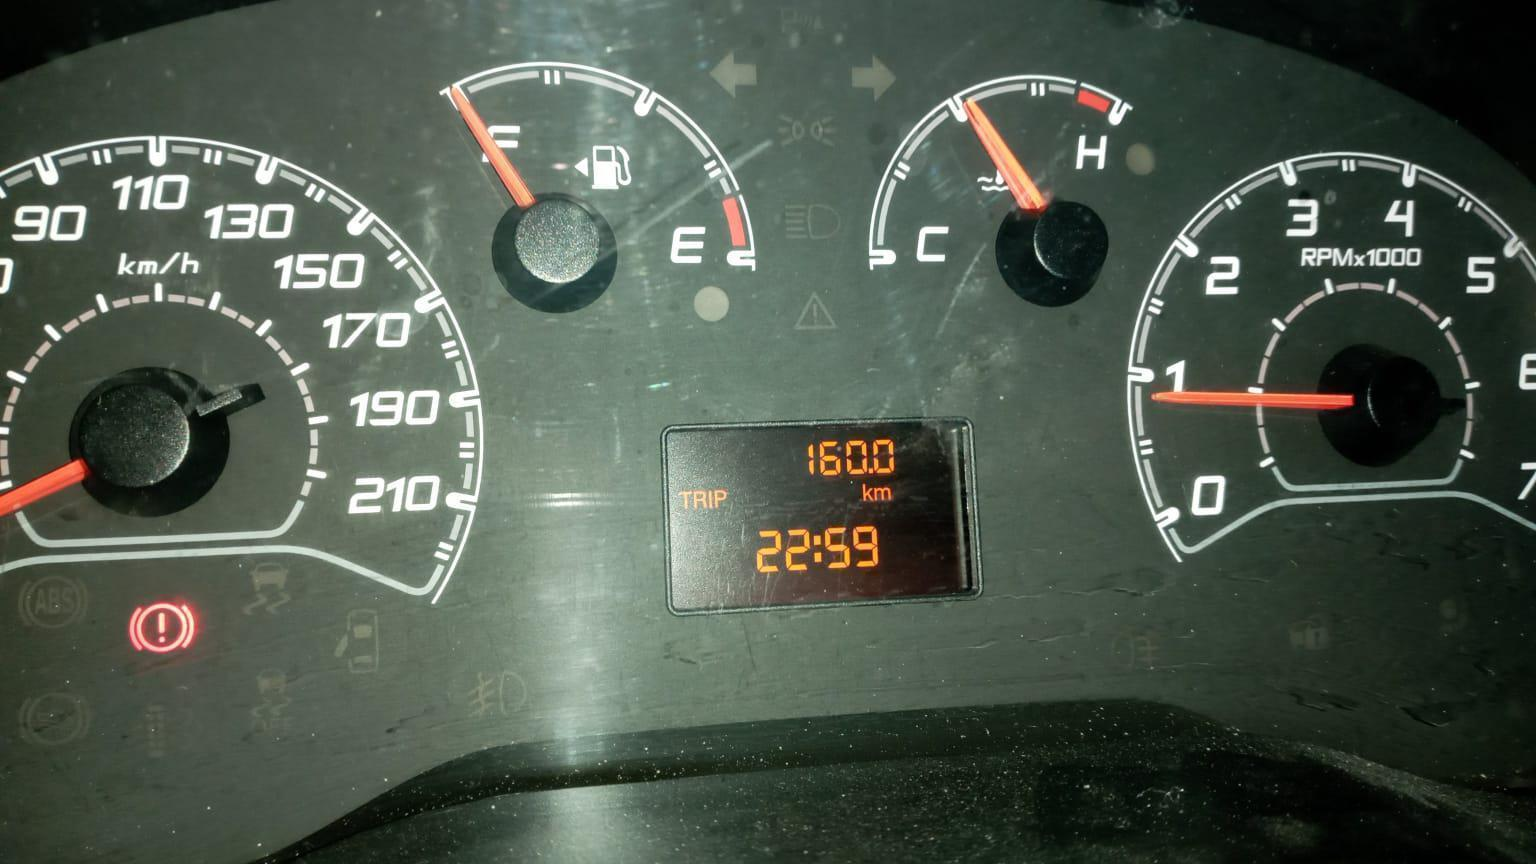,: (867, 466, 873, 475)
0: (872, 439, 895, 474), (845, 439, 867, 474)
1: (807, 443, 814, 475)
2: (755, 529, 782, 573), (784, 527, 810, 571)
5: (824, 526, 851, 568)
6: (818, 441, 841, 476)
9: (853, 525, 880, 567)
X: (812, 534, 822, 563), (692, 489, 707, 508), (873, 486, 891, 501), (861, 482, 873, 502), (678, 489, 691, 508), (713, 489, 726, 508), (707, 489, 713, 510)
odometer: (658, 414, 985, 620)
